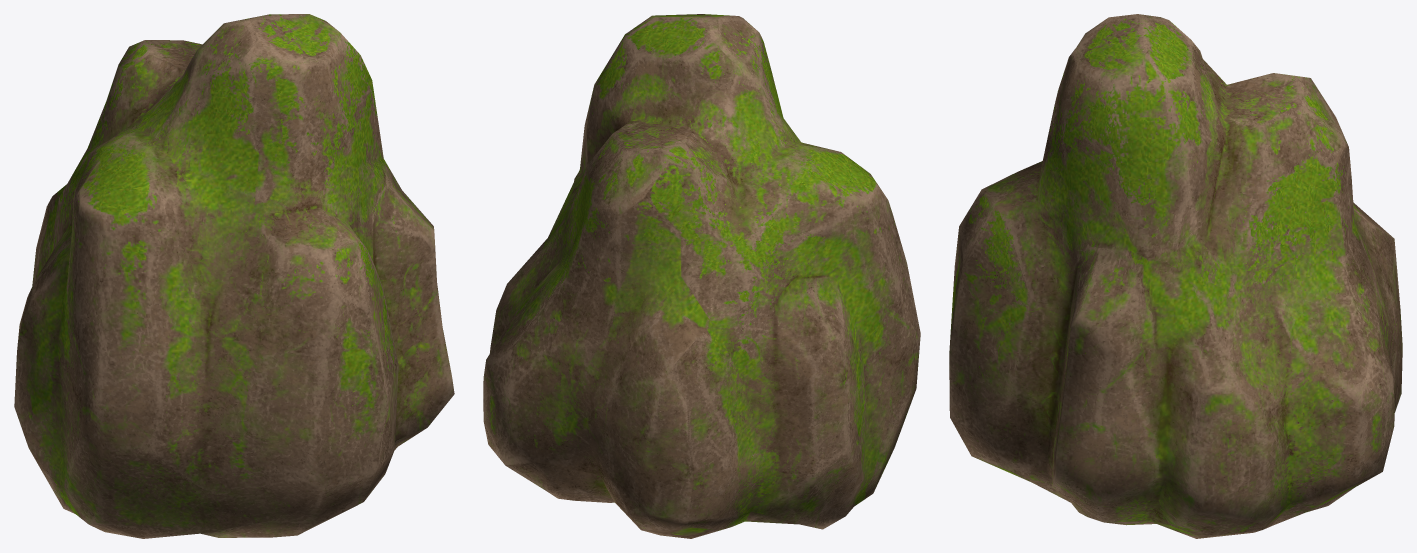
Rendered from EP1_rock03a.fbx.
3 views of the same model, side by side, from view 1: azimuth 30°, elevation 25°; view 2: azimuth 150°, elevation 25°; view 3: azimuth 270°, elevation 25° (orthographic). The views are drawn at different scales.
Parts seen in each view (by area): view 1: rock03a_low; view 2: rock03a_low; view 3: rock03a_low.
Boxes of the visible parts, x1=… form: rock03a_low: x1=14, y1=14, x2=454, y2=538; rock03a_low: x1=483, y1=14, x2=920, y2=538; rock03a_low: x1=949, y1=14, x2=1402, y2=538.
Size of the model in its own units: 2.71 by 3.23 by 2.78.
